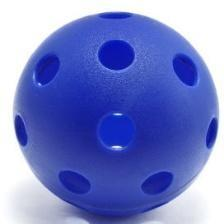Sports-Ball: (14, 12, 219, 224)
